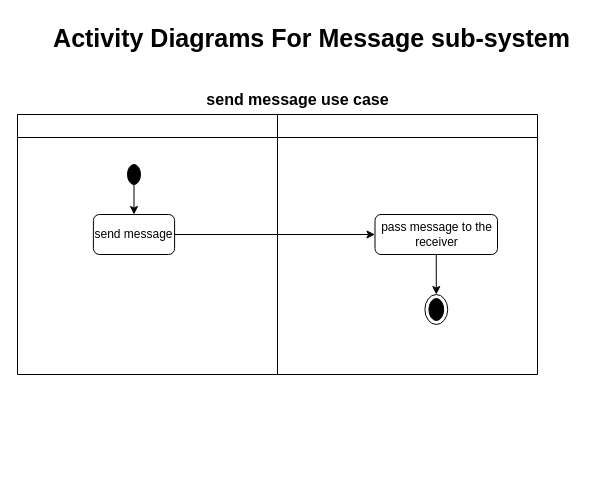
This 599x491 diagram has some shape labels left out. The box of each missing label's shape, as (x1, y1, x2, y2) in pixels:
Geek: (16, 114, 278, 374)
System: (276, 114, 538, 374)
